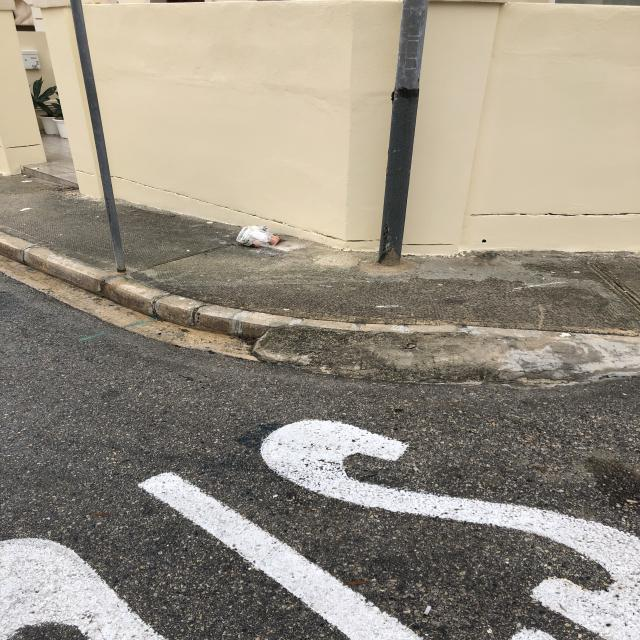Organic Waste -White Bag-: (238, 225, 283, 253)
